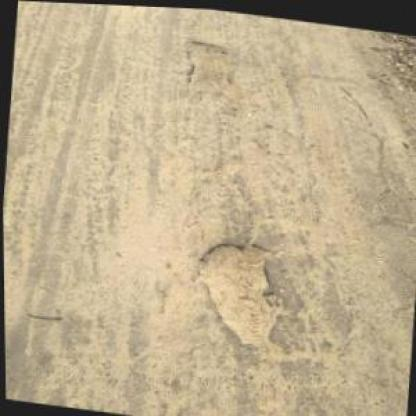pothole: (187, 229, 290, 349), (179, 35, 240, 97)
